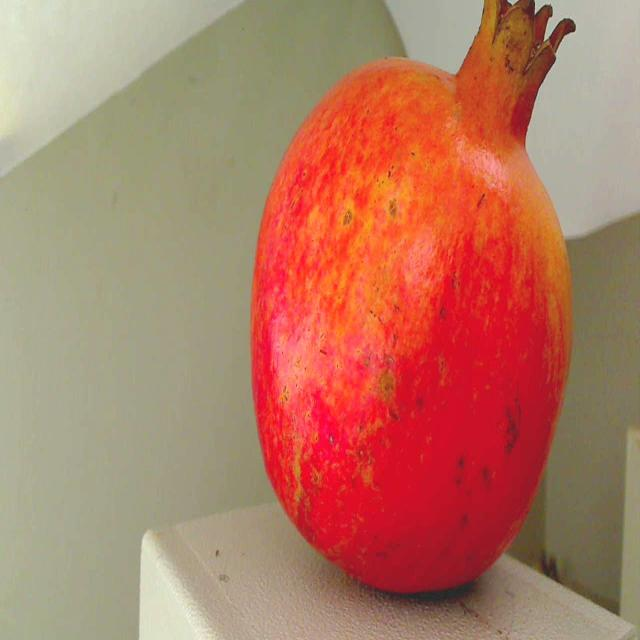pomegranate: (240, 0, 594, 606)
